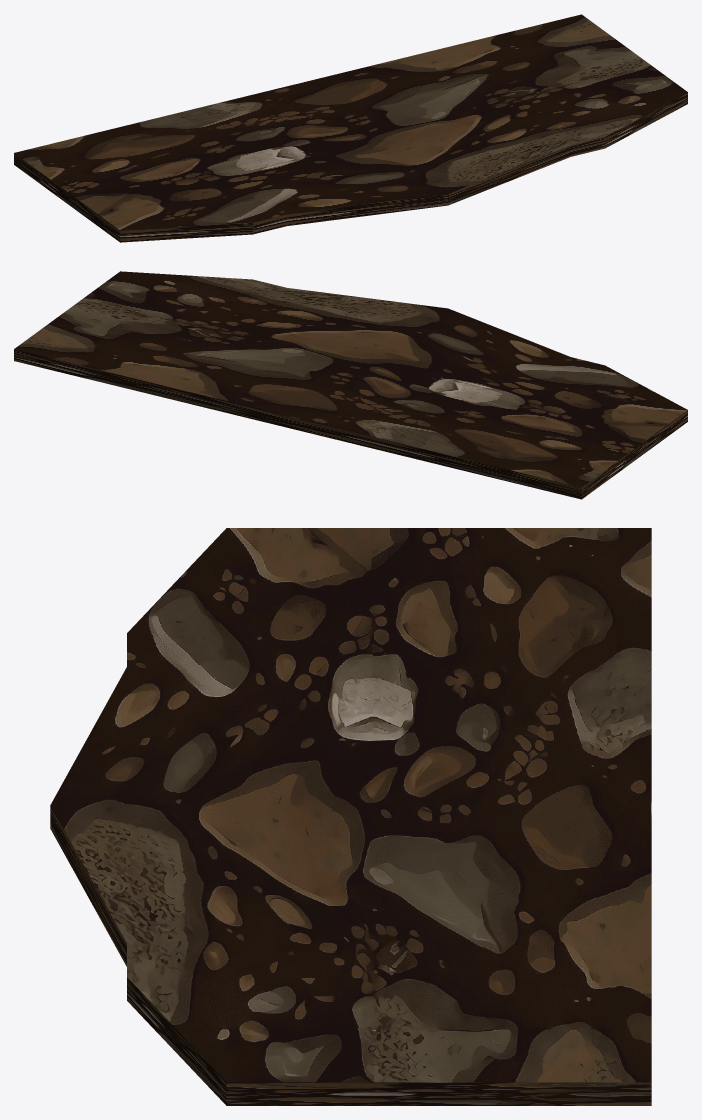
File: stiars part 1.fbx
3 renders of one model, top to bottom at view 1: azimuth 30°, elevation 25°; view 2: azimuth 150°, elevation 25°; view 3: azimuth 270°, elevation 25°, orthographic. The views are drawn at different scales.
Visible parts, largest first — view 1: Cube; view 2: Cube; view 3: Cube.
Part boxes in pixels (box(x1,y1,x2,y2)): Cube: box(14, 14, 687, 242); Cube: box(14, 271, 687, 499); Cube: box(50, 528, 651, 1105).
Size of the model in its own units: 500 by 10 by 229.
